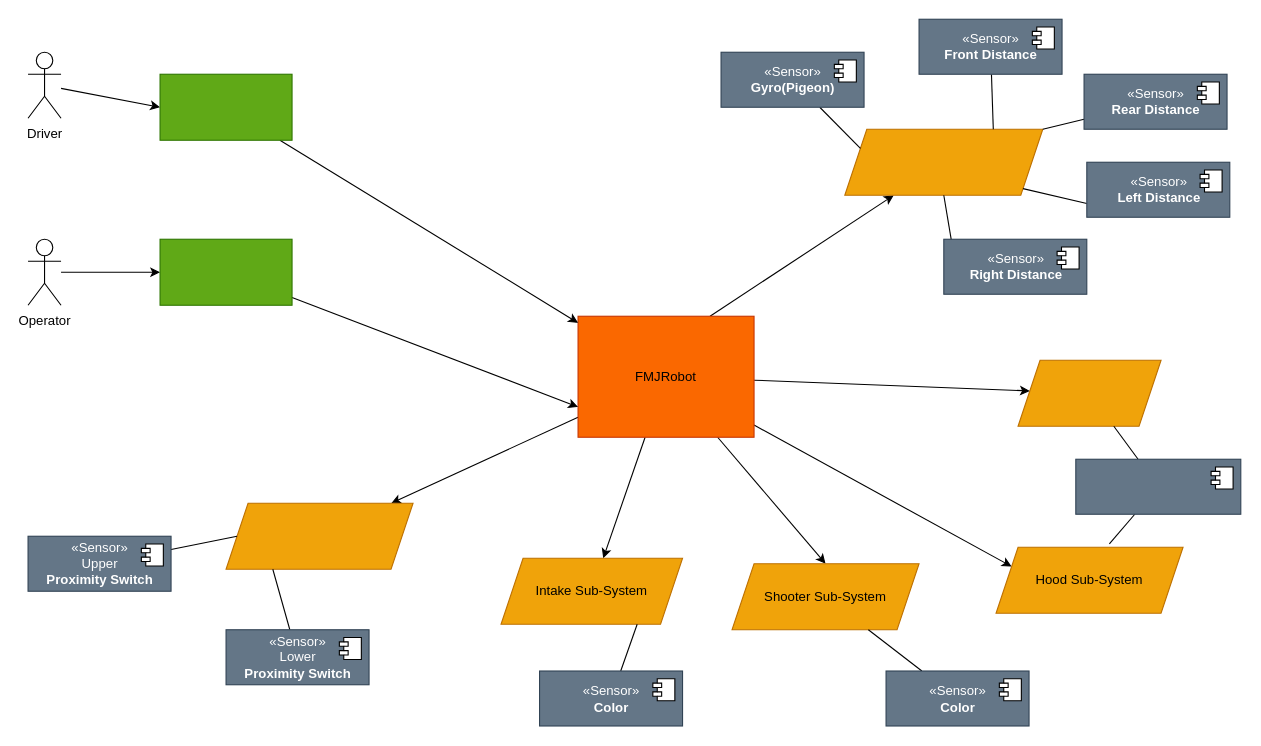
The diagram is 1261 pixels wide and 746 high, and some of its shapes have lost their labels. The box of each missing label's shape, as (x1, y1, x2, y2) in pixels:
Climber Sub-System: (225, 502, 413, 569)
Drive Sub-System: (844, 128, 1043, 195)
FullMetalDriver <<XBoxController>>: (159, 73, 292, 140)
FullMetalOperator <<XBoxController>>: (159, 238, 292, 305)
Turret Sub-System: (1017, 359, 1161, 426)
«Sensor» Vision(Limelight): (1075, 458, 1241, 514)
